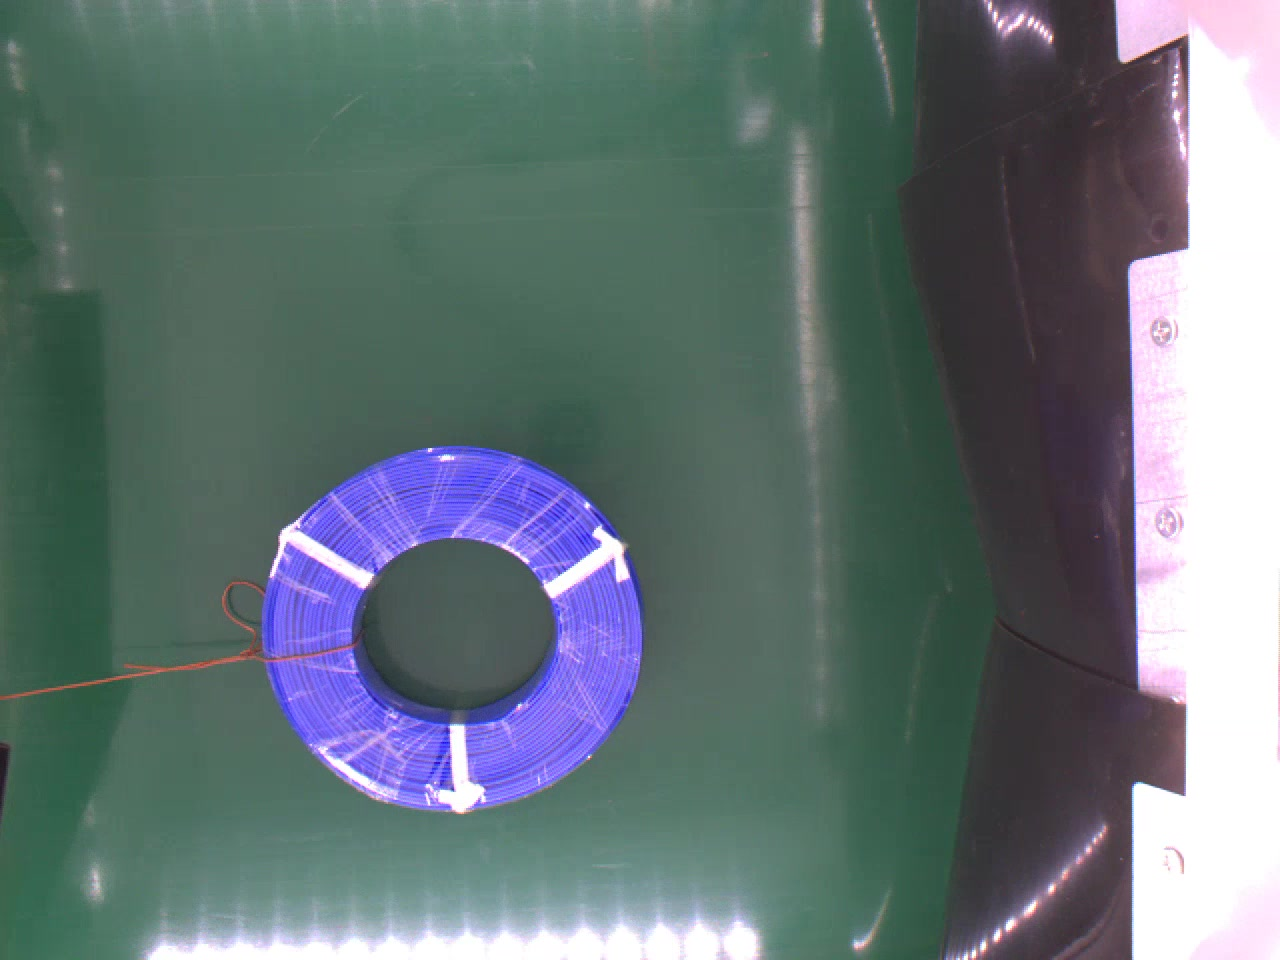blue: (260, 444, 654, 816)
